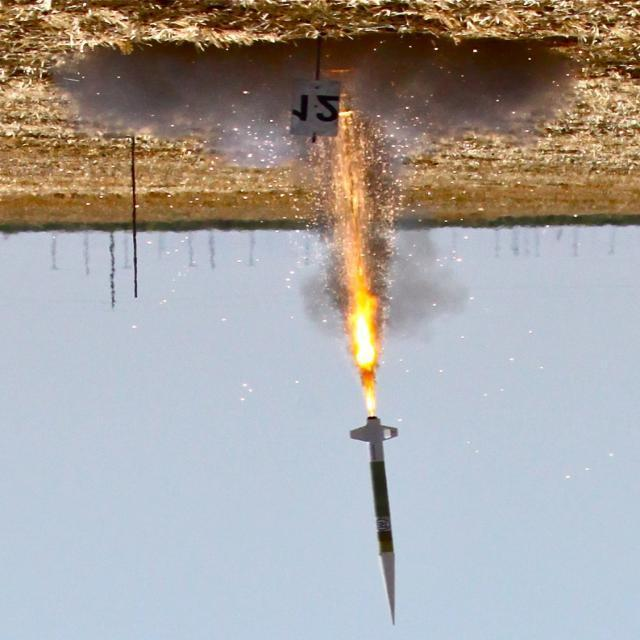Missile: (349, 419, 402, 628)
